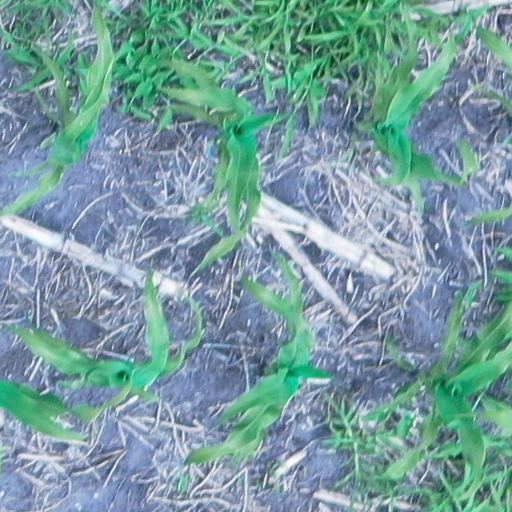planta: (362, 284, 511, 500), (183, 250, 332, 465), (155, 57, 294, 277), (1, 268, 203, 400), (357, 31, 475, 216)
